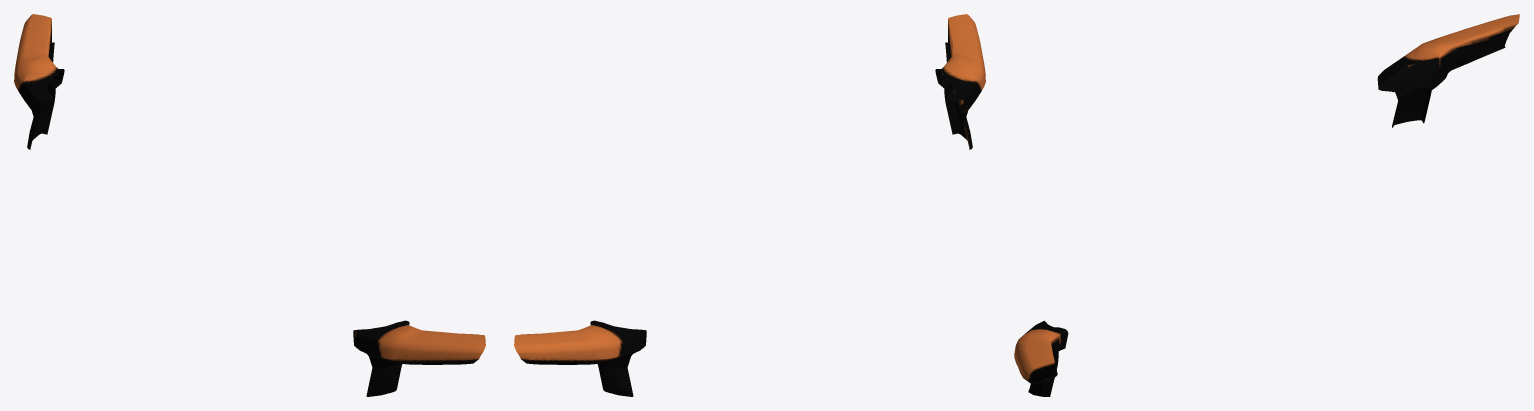
The model's file is CMS_CABIN.glb.
The picture shows the model from 3 angles, left to right: view 1: azimuth 30°, elevation 25°; view 2: azimuth 150°, elevation 25°; view 3: azimuth 330°, elevation 25°; orthographic projection. The views are drawn at different scales.
Parts seen in each view (by area): view 1: Cabin:CMS; view 2: Cabin:CMS; view 3: Cabin:CMS.
Boxes of the visible parts, x1,y1,x2,y2 form: Cabin:CMS: (14,14,485,396); Cabin:CMS: (514,14,985,396); Cabin:CMS: (1014,14,1519,396).
Bounding box in the file's own units: 0.2724 × 0.2821 × 2.93.
Materials: 1 (1 with a texture image).
